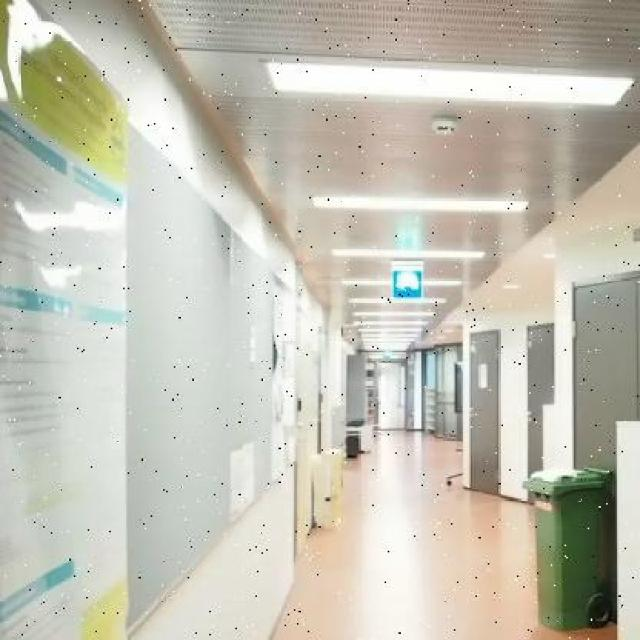emergency_exit: (390, 263, 424, 300)
